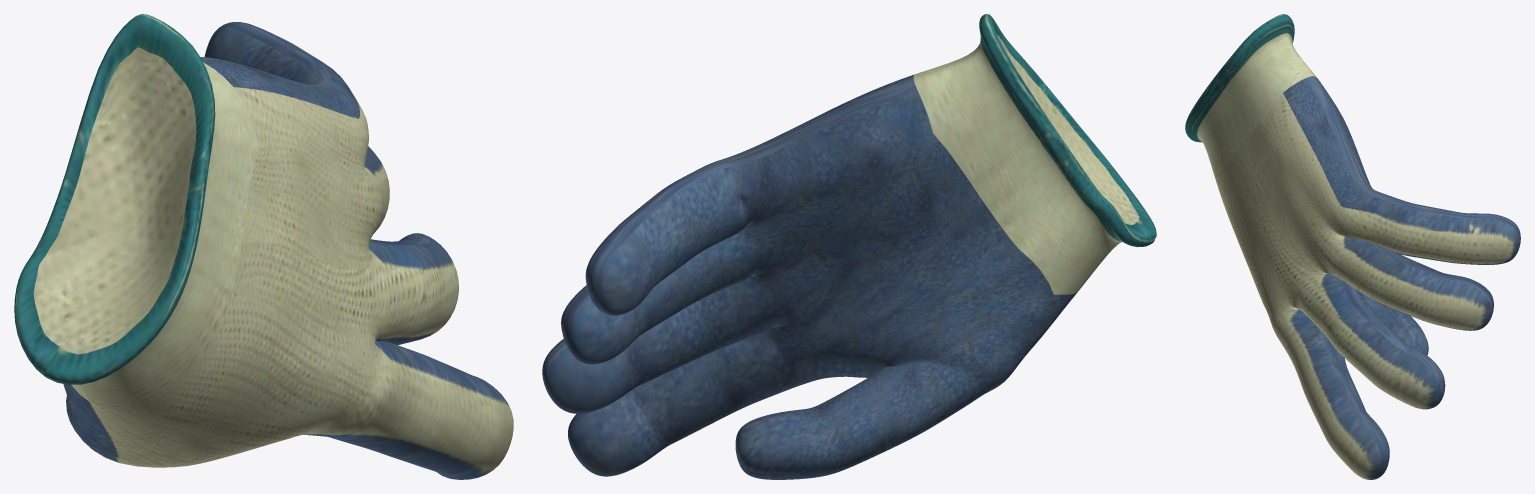
The model's file is Gloves.fbx.
3 renders of one model, left to right at view 1: azimuth 30°, elevation 25°; view 2: azimuth 150°, elevation 25°; view 3: azimuth 270°, elevation 25°, orthographic. The views are drawn at different scales.
Visible parts, largest first — view 1: 10139_GardenGloves_v01; view 2: 10139_GardenGloves_v01; view 3: 10139_GardenGloves_v01.
Boxes of the visible parts, <box> form: 10139_GardenGloves_v01: <box>14,14,513,479</box>; 10139_GardenGloves_v01: <box>542,14,1156,479</box>; 10139_GardenGloves_v01: <box>1185,14,1520,479</box>.
Size of the model in its own units: 139 by 136 by 118.
Materials: 1 (1 with a texture image).
